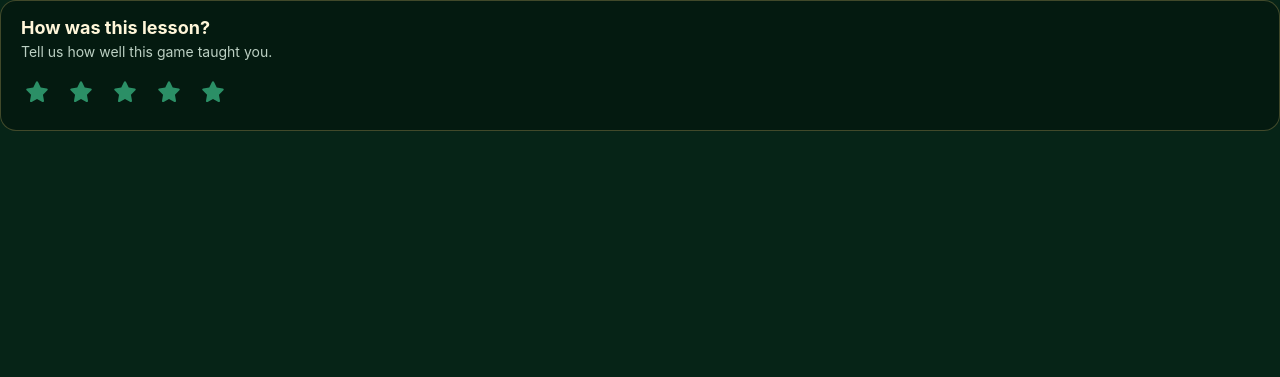
it: RatingPrompt › "Skip comment, just send" sends the stars alone
The image size is (1280, 377).
Click the radio button named "5 out of 5 stars". click: (213, 92)
box: [191, 70, 235, 114]
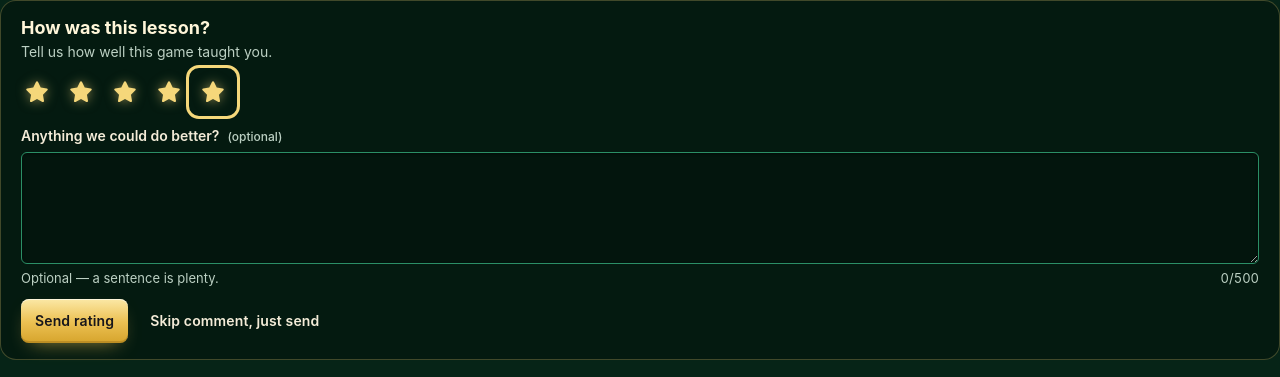
Type "ignored" into the text box. click: (640, 208)
box: [21, 152, 1259, 264]
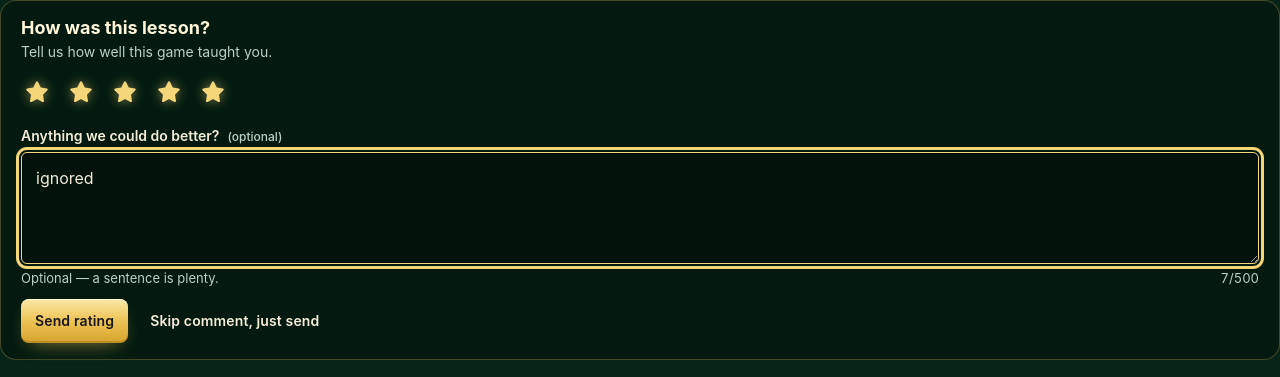
Click the button "Skip comment, just send". click: (235, 321)
box: [136, 299, 334, 343]
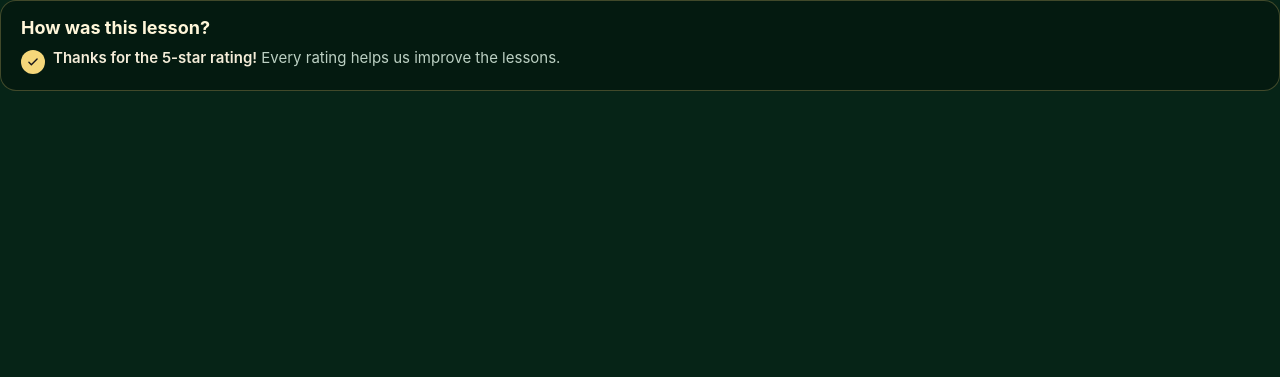
Expected: the text "Thanks for the 5-star rating!" is shown, [53, 48, 257, 66]
